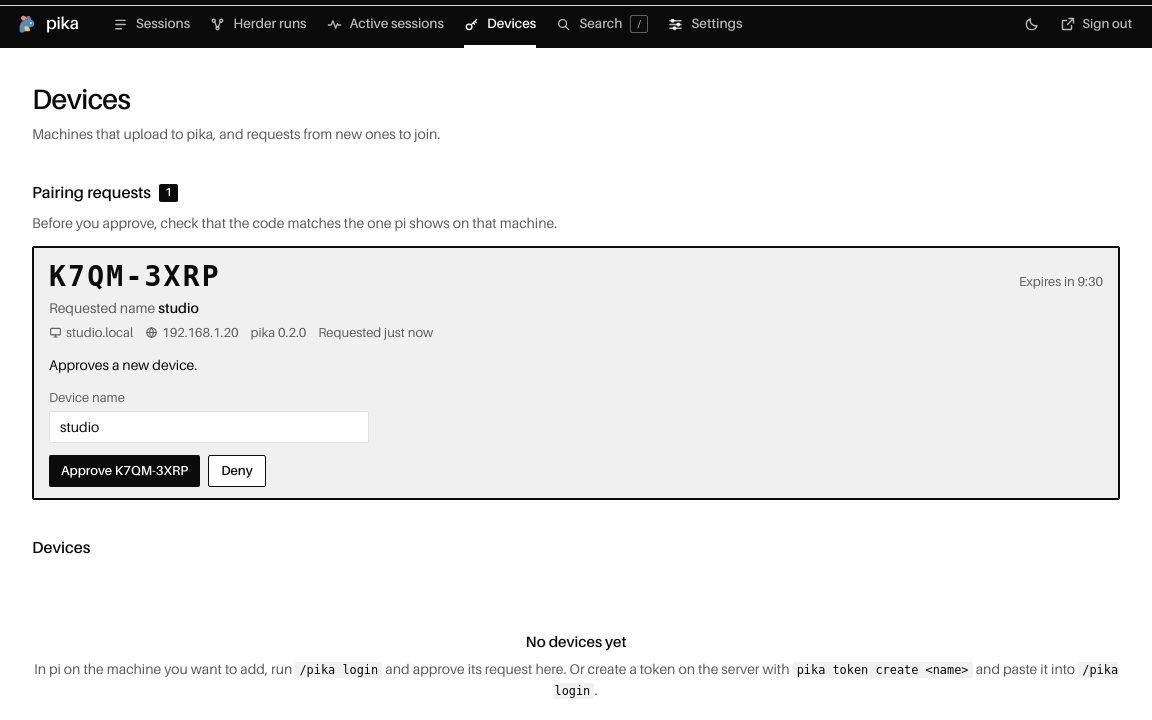
Test: devices page › approves a new device with the edited name and refreshes both lists
Expected: the text "Approves a new device." is shown, [49, 357, 197, 373]
Replace the text in the field labelled "Device name" with "  Studio Mac  " at (209, 427), box [49, 411, 369, 443]
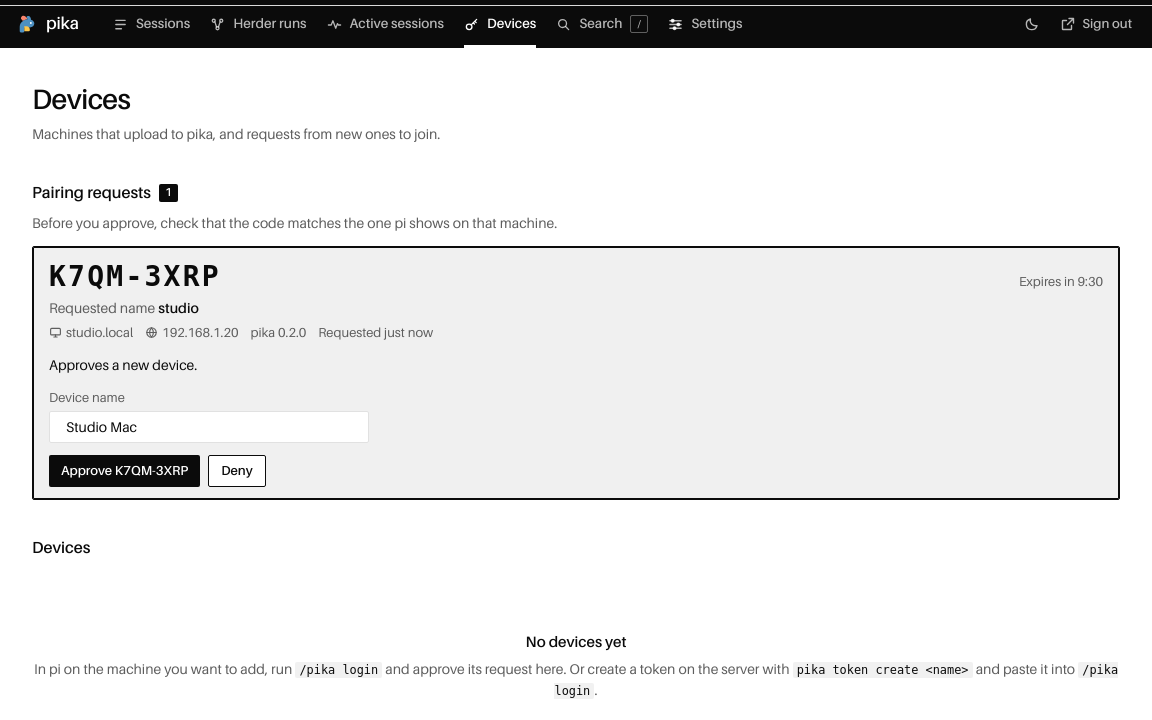
Click the button "Approve K7QM-3XRP".
click(125, 471)  # box [49, 455, 200, 487]
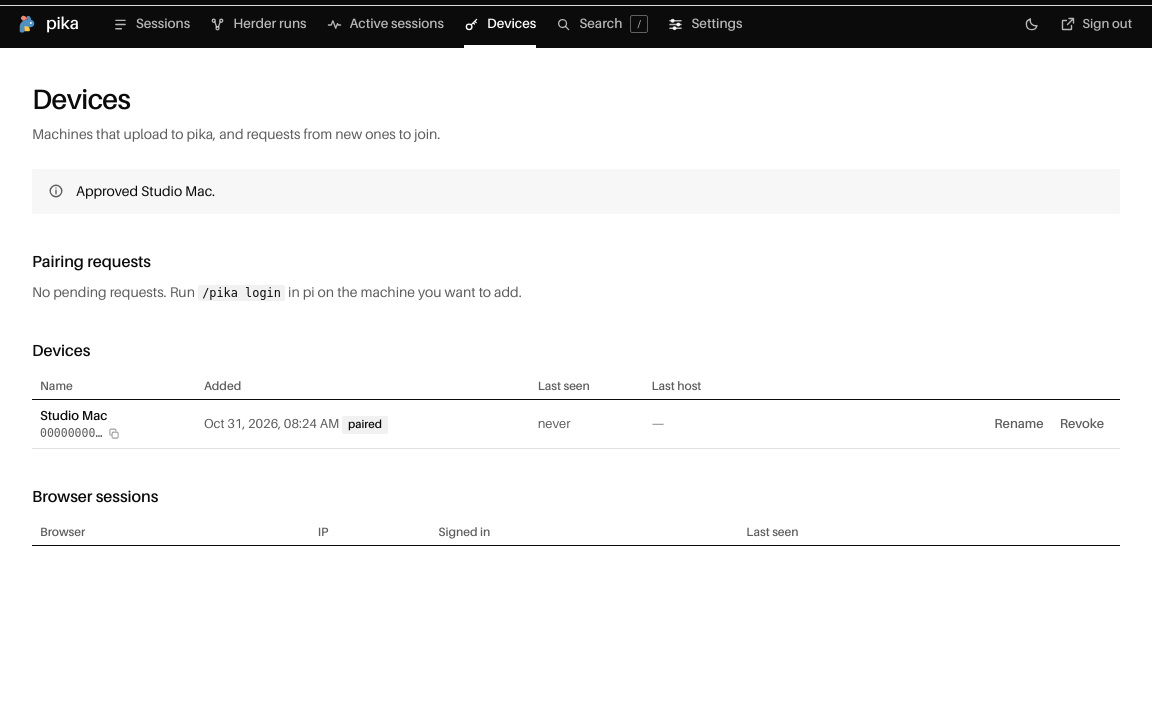
Expected: the text "Approved Studio Mac." is shown, [76, 183, 215, 199]
Expected: the text "No pending requests." is shown, [32, 284, 198, 300]
